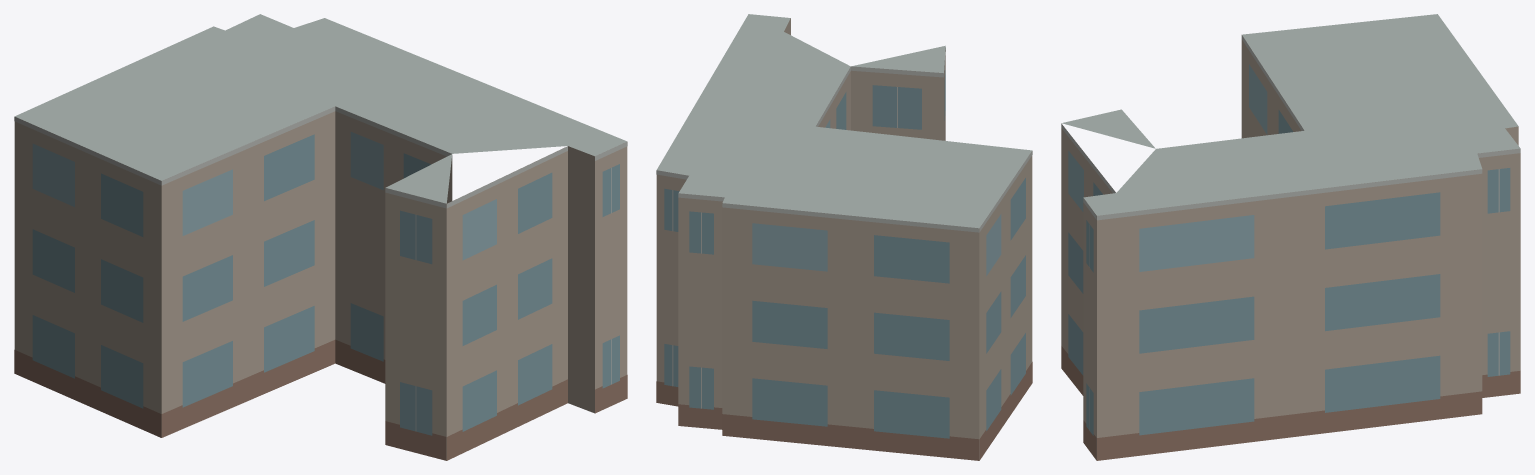
Rendered from survey-upis-32863166.glb.
3 renders of one model, left to right at view 1: azimuth 30°, elevation 25°; view 2: azimuth 150°, elevation 25°; view 3: azimuth 270°, elevation 25°, orthographic. The views are drawn at different scales.
Parts seen in each view (by area): view 1: survey-upis-32863166.tmp; view 2: survey-upis-32863166.tmp; view 3: survey-upis-32863166.tmp.
Boxes of the visible parts, left/top/right/bottom form: survey-upis-32863166.tmp: left=14, top=14, right=627, bottom=460; survey-upis-32863166.tmp: left=656, top=14, right=1032, bottom=460; survey-upis-32863166.tmp: left=1061, top=14, right=1520, bottom=460.
Bounding box in the file's own units: 23.08 × 13.06 × 22.2.
